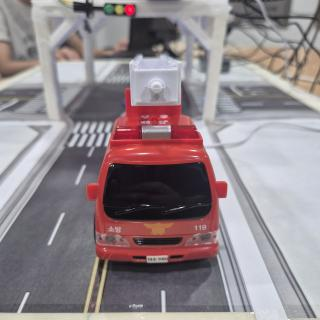Fire_truck: (86, 55, 227, 264)
